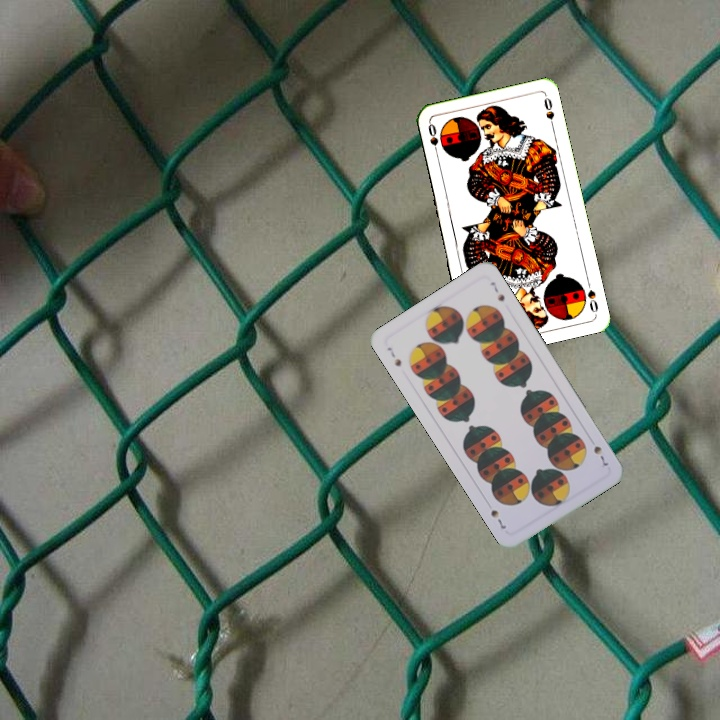S7: (589, 442, 611, 471), (383, 343, 404, 369)
SO: (583, 276, 601, 316), (424, 119, 441, 159)
